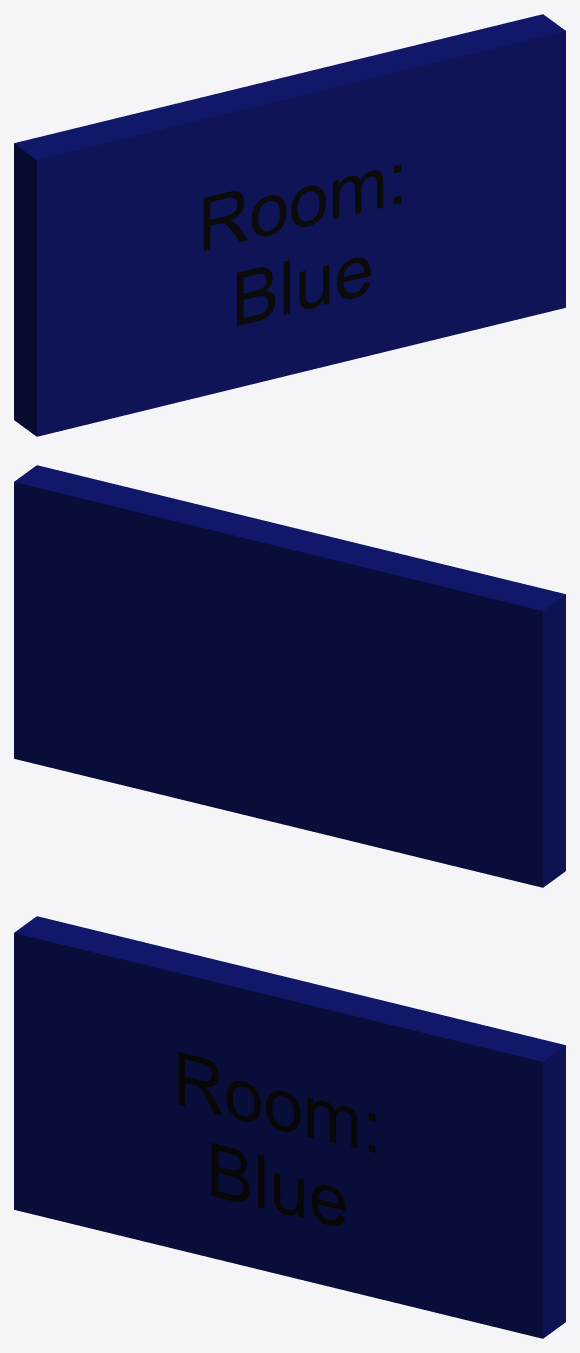
Rendered from ROOM PLAQUE - BLUE.fbx.
The picture shows the model from 3 angles, top to bottom: view 1: azimuth 30°, elevation 25°; view 2: azimuth 150°, elevation 25°; view 3: azimuth 330°, elevation 25°; orthographic projection.
Visible parts, largest first — view 1: Box001, TextPlus001; view 2: Box001; view 3: Box001, TextPlus001.
Boxes of the visible parts, x1=… form: Box001: x1=14, y1=14, x2=565, y2=436; TextPlus001: x1=203, y1=164, x2=401, y2=325; Box001: x1=14, y1=465, x2=565, y2=887; Box001: x1=14, y1=916, x2=565, y2=1338; TextPlus001: x1=178, y1=1051, x2=375, y2=1226.
Bounding box in the file's own units: 40 × 20 × 3.17.
